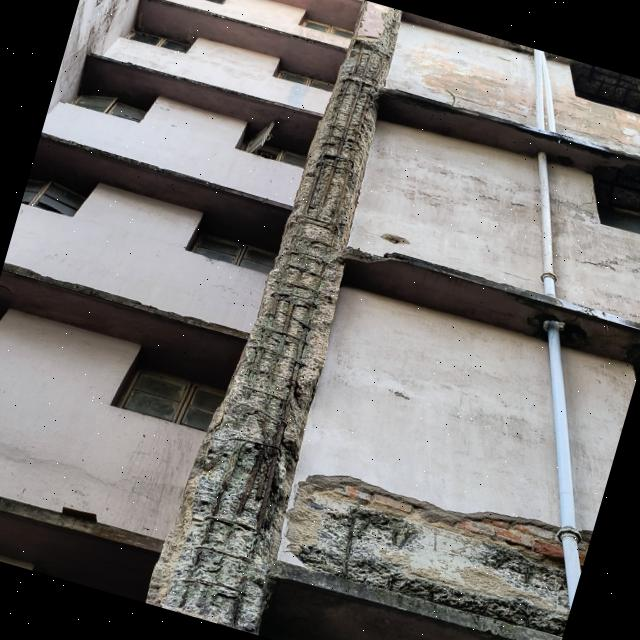Spalling: (146, 0, 400, 634), (284, 475, 568, 636)
